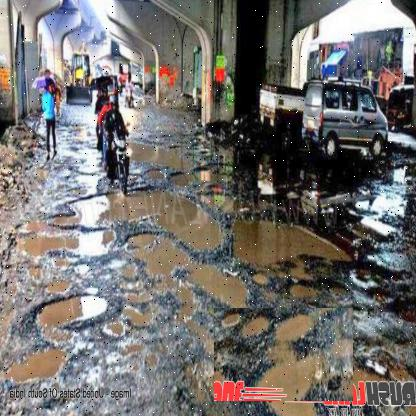pothole_water: (21, 284, 113, 340)
pothole_water_m: (213, 308, 353, 402)
